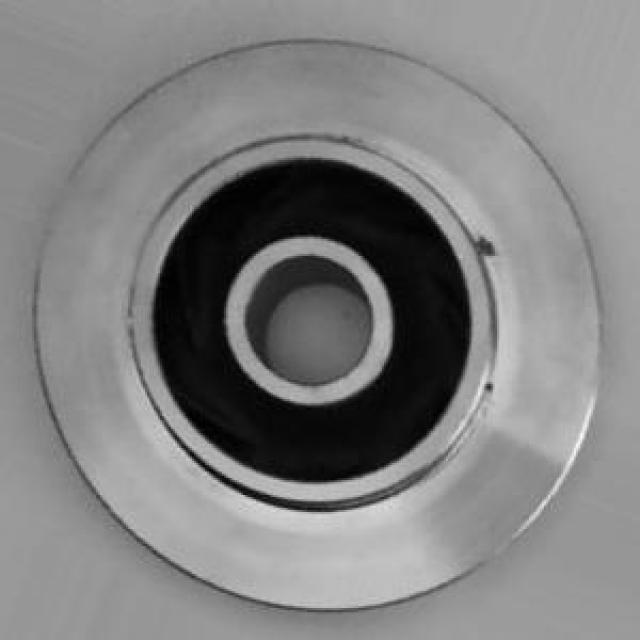Defect: (471, 228, 502, 266)
